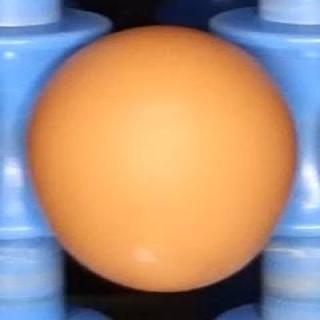Telur: (18, 24, 305, 297)
